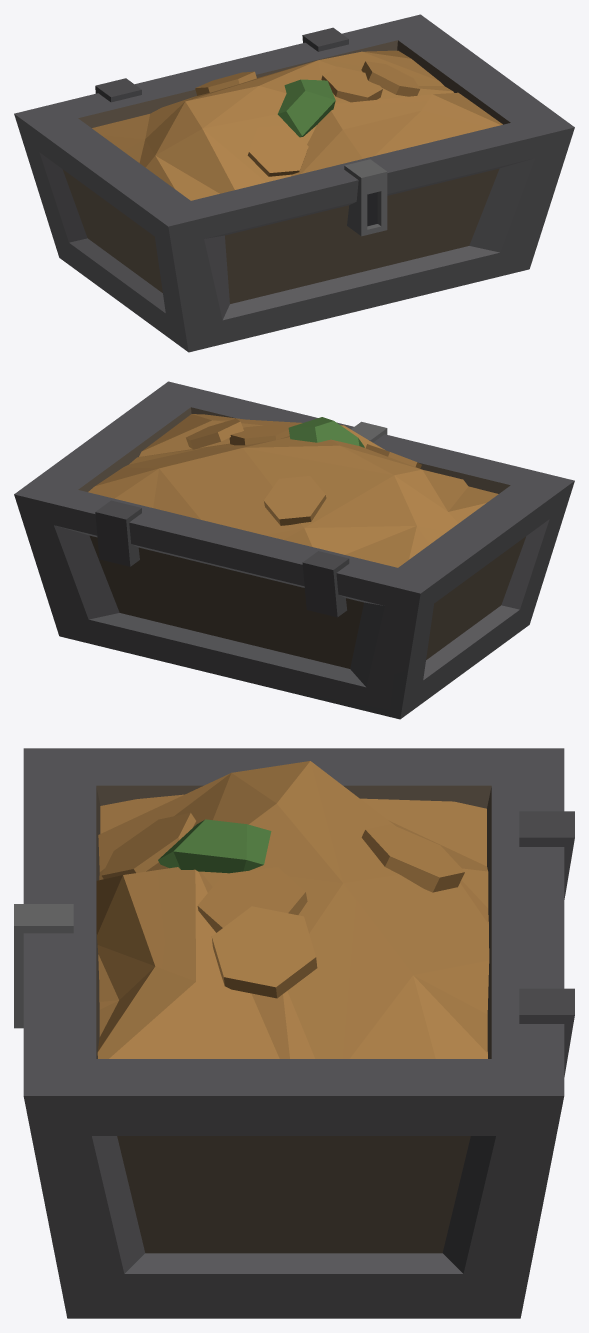
The model's file is SM_Prop_Chest_Treasure_03.glb.
3 renders of one model, top to bottom at view 1: azimuth 30°, elevation 25°; view 2: azimuth 150°, elevation 25°; view 3: azimuth 270°, elevation 25°, orthographic. The views are drawn at different scales.
Visible parts, largest first — view 1: SM_Prop_Chest_Treasure_03; view 2: SM_Prop_Chest_Treasure_03; view 3: SM_Prop_Chest_Treasure_03.
Part boxes in pixels (<box>): SM_Prop_Chest_Treasure_03: <box>14,14,574,352</box>; SM_Prop_Chest_Treasure_03: <box>14,381,574,719</box>; SM_Prop_Chest_Treasure_03: <box>14,748,574,1318</box>.
Bounding box in the file's own units: 0.00638 × 0.00293 × 0.00435.
